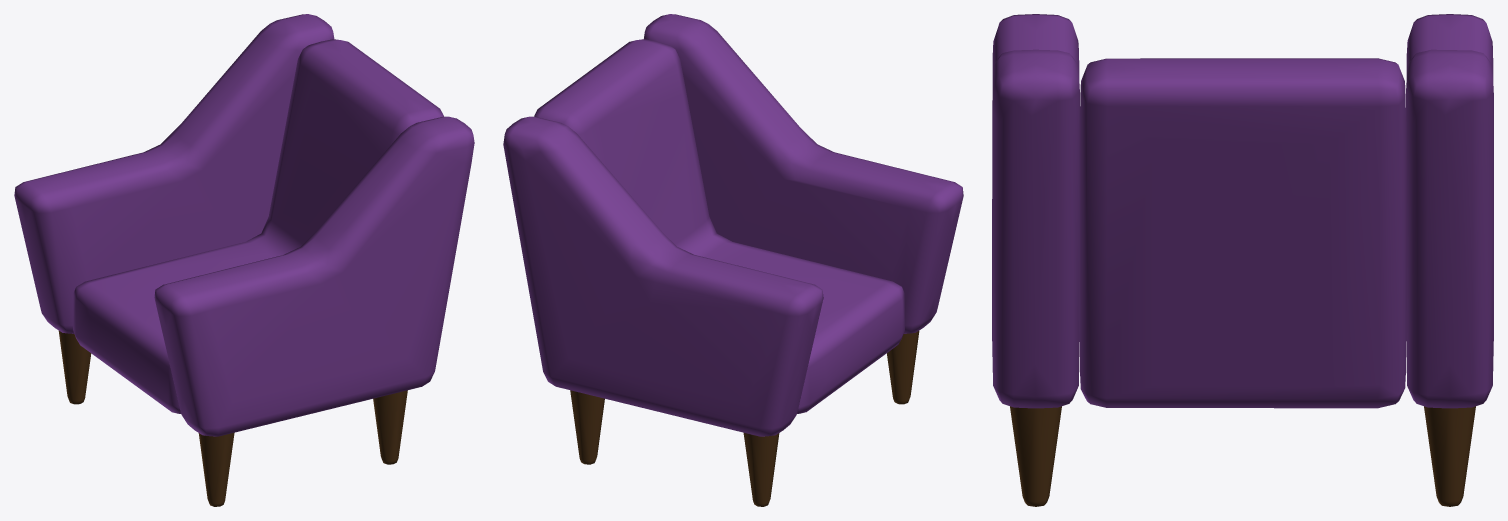
Rendered from armchair_01_purple.fbx.
3 views of the same model, side by side, from view 1: azimuth 30°, elevation 25°; view 2: azimuth 150°, elevation 25°; view 3: azimuth 270°, elevation 25° (orthographic). The views are drawn at different scales.
Visible parts, largest first — view 1: armchair_01_purple; view 2: armchair_01_purple; view 3: armchair_01_purple.
Part boxes in pixels (x1,y1,x2,y2): armchair_01_purple: (14,14,474,506); armchair_01_purple: (503,14,963,506); armchair_01_purple: (992,14,1493,506).
Bounding box in the file's own units: 101 × 104 × 98.01.
Materials: 2 (2 with a texture image).
